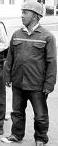boots: (0, 112, 11, 118), (0, 91, 8, 99)
hard-hat: (21, 0, 44, 17)
ppe-suit: (0, 0, 20, 110)
